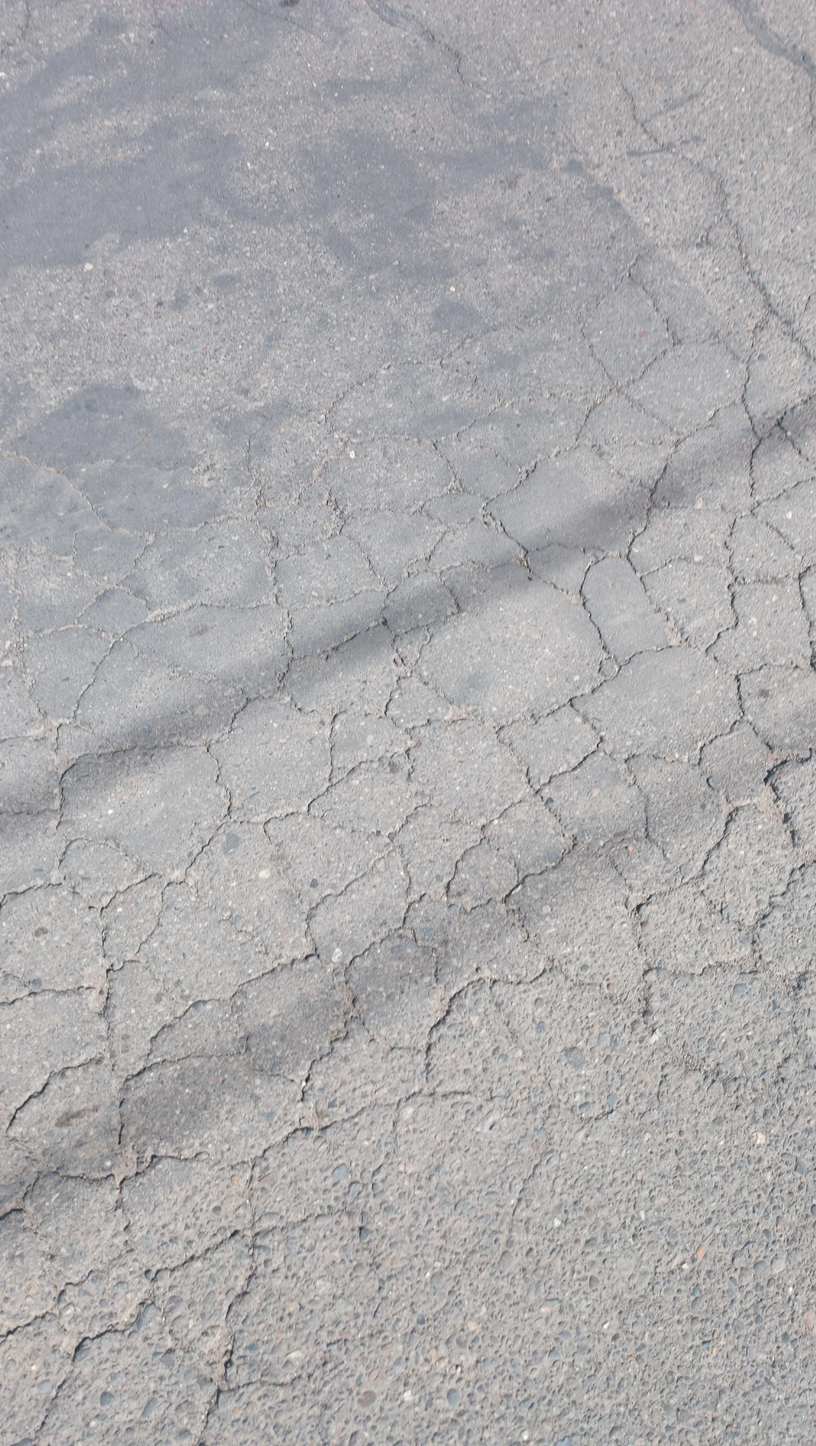GRIETA: (622, 87, 660, 147), (0, 986, 92, 1007), (0, 884, 46, 907), (455, 51, 466, 83)
PARCHE: (0, 125, 226, 264)
PIEL DE COCODRILO: (0, 182, 816, 1446)
